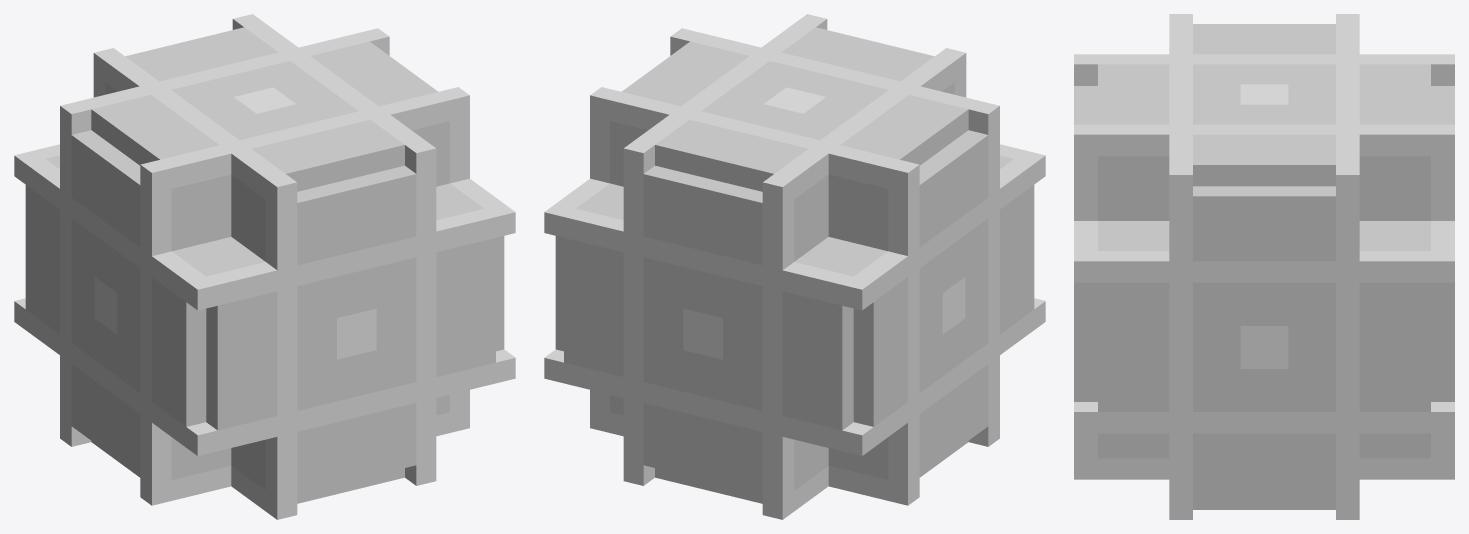
File: spacebox.obj
The picture shows the model from 3 angles, left to right: view 1: azimuth 30°, elevation 25°; view 2: azimuth 150°, elevation 25°; view 3: azimuth 270°, elevation 25°; orthographic projection. The views are drawn at different scales.
Size of the model in its own units: 1.6 by 1.6 by 1.6.
